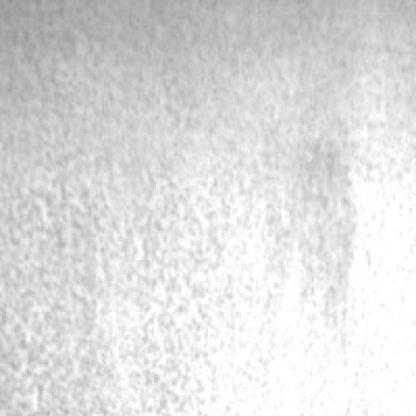pitted_surface: (4, 177, 356, 416)
